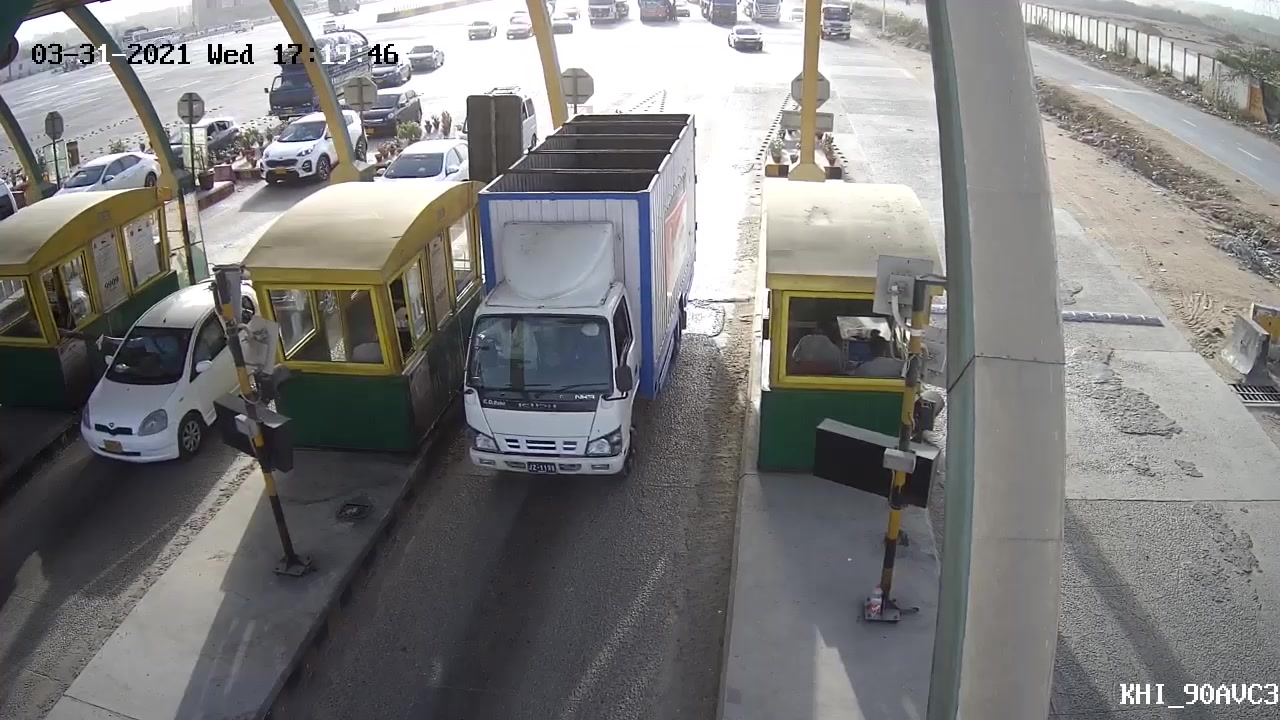F5: (452, 112, 701, 509)
